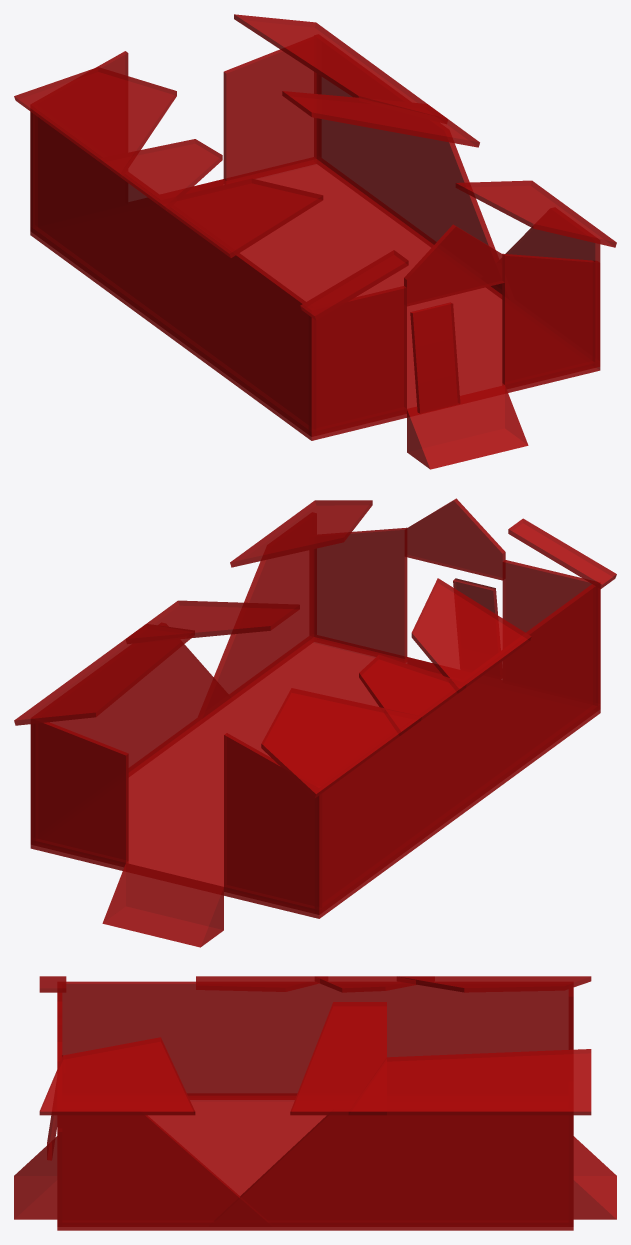
The model's file is SM_Bld_Barracks_Destroyed_01_Collision.fbx.
3 renders of one model, top to bottom at view 1: azimuth 30°, elevation 25°; view 2: azimuth 150°, elevation 25°; view 3: azimuth 270°, elevation 25°, orthographic. The views are drawn at different scales.
Visible parts, largest first — view 1: SM_Bld_Barracks_Destroyed_01_Collision; view 2: SM_Bld_Barracks_Destroyed_01_Collision; view 3: SM_Bld_Barracks_Destroyed_01_Collision.
Boxes of the visible parts, x1,y1,x2,y2 form: SM_Bld_Barracks_Destroyed_01_Collision: [14, 14, 616, 469]; SM_Bld_Barracks_Destroyed_01_Collision: [14, 498, 616, 947]; SM_Bld_Barracks_Destroyed_01_Collision: [14, 976, 616, 1230].
Size of the model in its own units: 731 by 500 by 1377.
